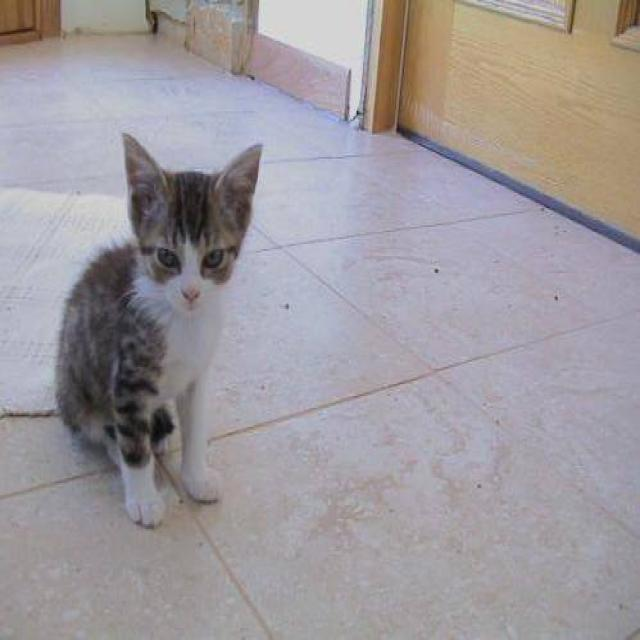cat: (54, 130, 263, 529)
